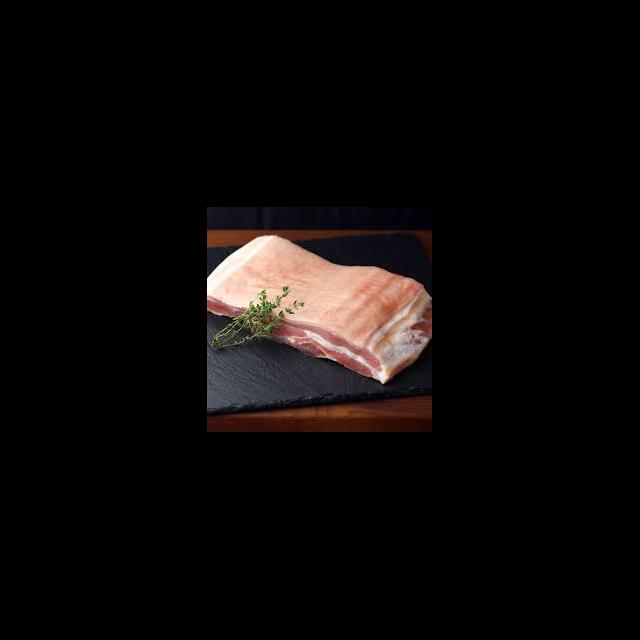pork: (305, 266, 432, 386)
